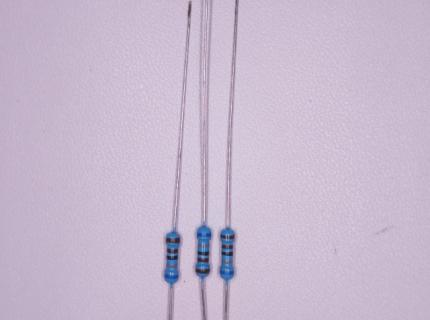Black band: (166, 255, 178, 261), (221, 251, 233, 256), (197, 251, 209, 256)
Blue band: (164, 274, 179, 279), (220, 270, 234, 275), (196, 233, 211, 237)
Brown band: (166, 237, 180, 244), (220, 234, 235, 240), (195, 269, 210, 274), (197, 258, 209, 263), (167, 248, 178, 253), (221, 245, 233, 249)
Grey band: (197, 244, 209, 248), (166, 263, 177, 267), (222, 260, 233, 264)
